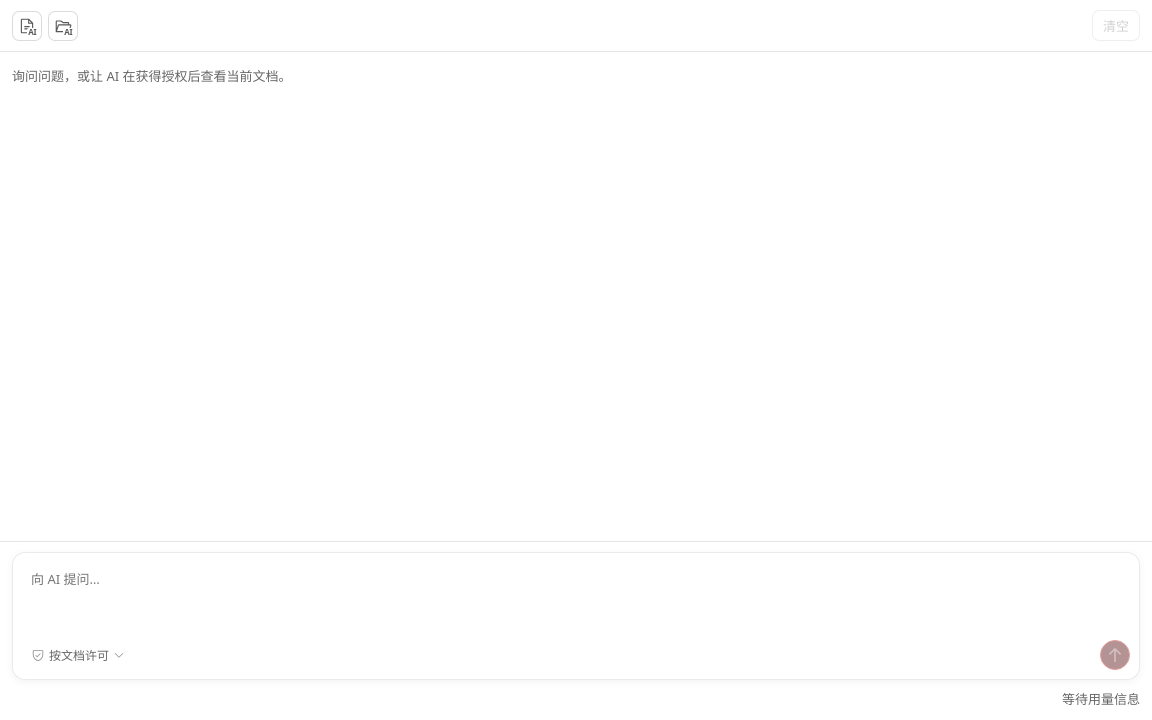
Scenario: AiConversationSidebar › dismisses the current write-policy popup on blur
Click the button with aria-label "写入策略：按文档许可" at [78, 655], box [22,640,134,670]
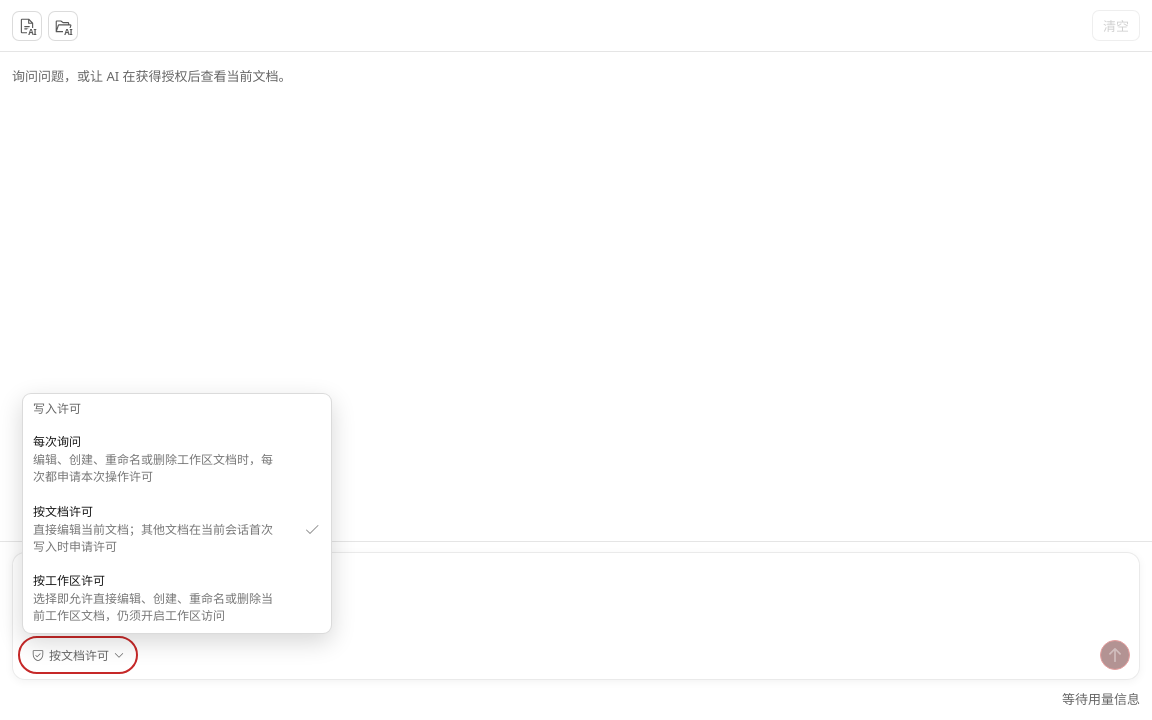
Expected: the menu is shown, [22,393,332,634]
Leave the button with aria-label "写入策略：按文档许可", box [22,640,134,670]
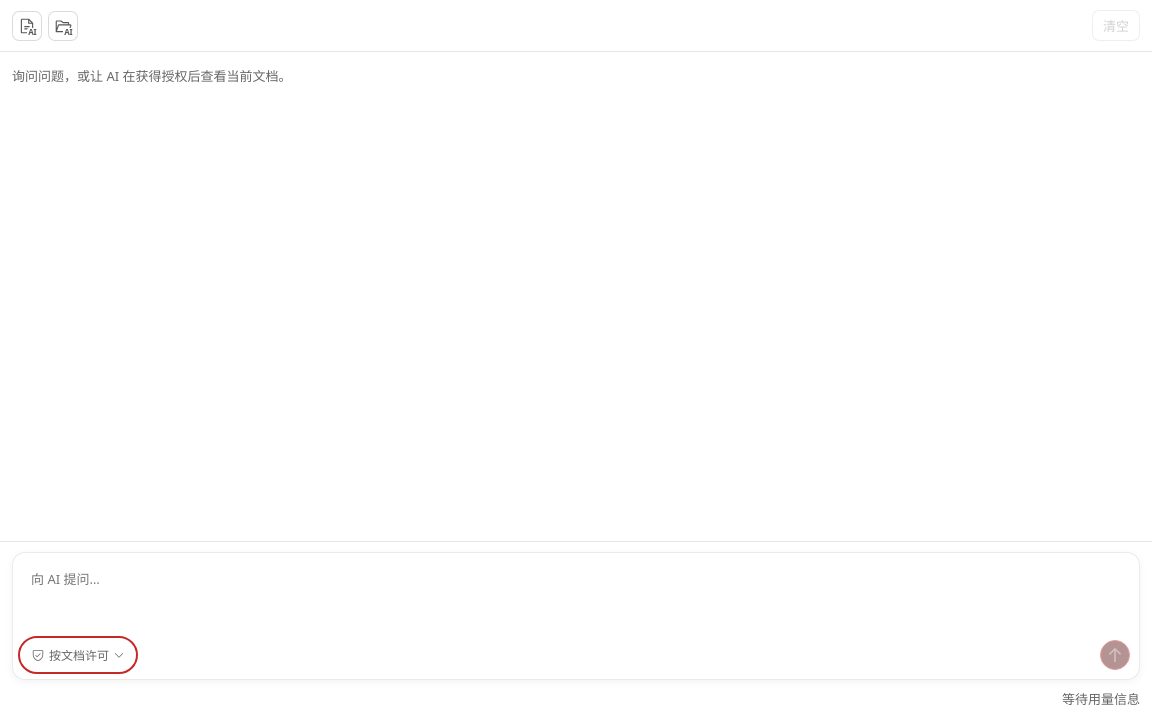
Expected: the menu is gone
